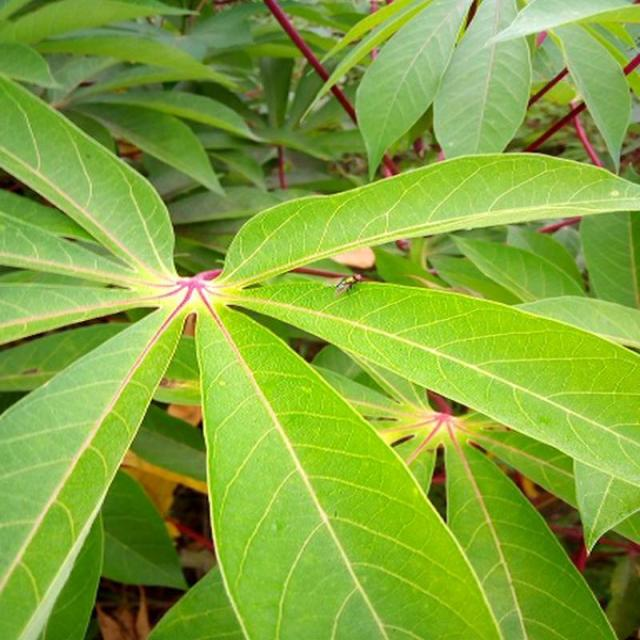cassava leaf: (1, 65, 638, 638), (192, 291, 502, 638)
